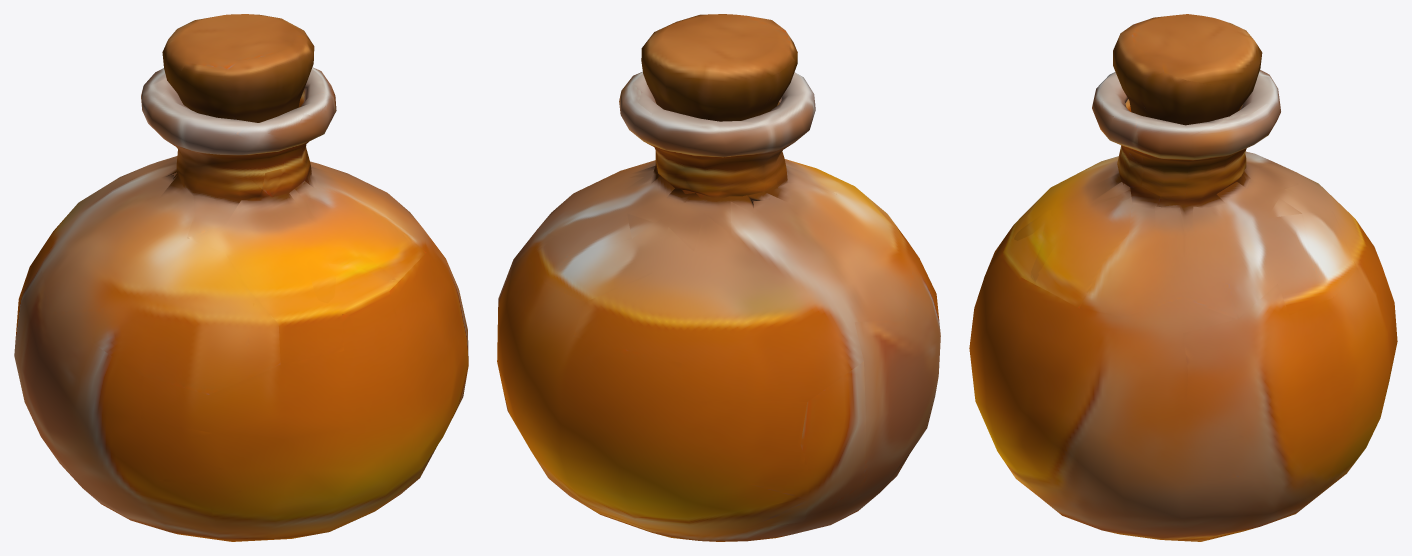
File: pocion_alq_3.glb
The picture shows the model from 3 angles, left to right: view 1: azimuth 30°, elevation 25°; view 2: azimuth 150°, elevation 25°; view 3: azimuth 270°, elevation 25°; orthographic projection. The views are drawn at different scales.
Parts seen in each view (by area): view 1: pocion_alq_3; view 2: pocion_alq_3; view 3: pocion_alq_3.
Part boxes in pixels (x1,y1,x2,y2): pocion_alq_3: (14,14,468,541); pocion_alq_3: (497,14,940,541); pocion_alq_3: (969,14,1397,541).
Size of the model in its own units: 0.2424 by 0.265 by 0.2327.
1 material, 1 textured.
